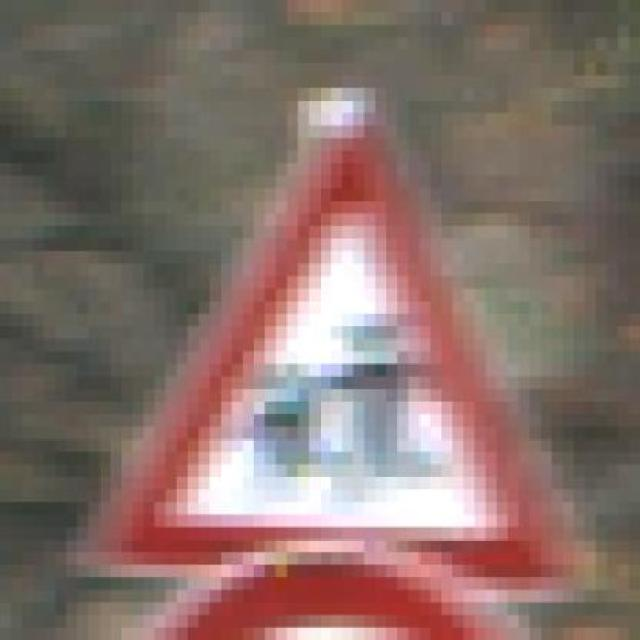Beware of children: (54, 75, 586, 602)
